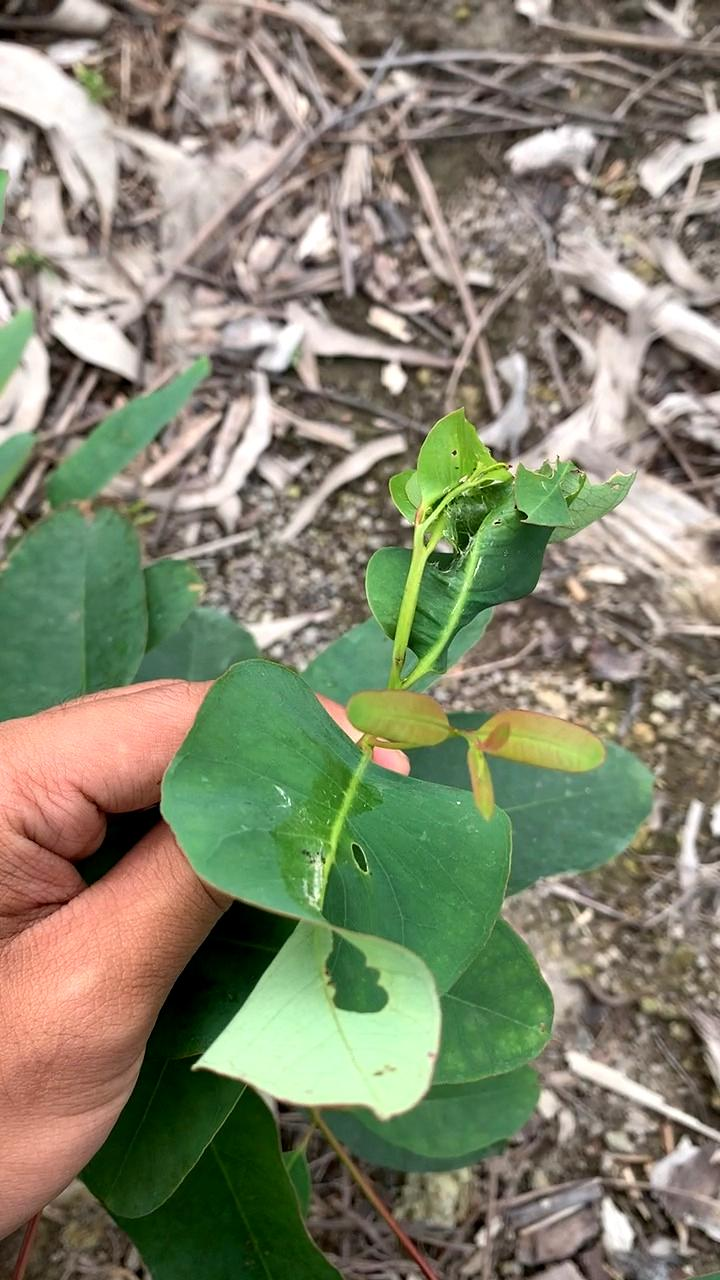Leaf Roller - Leaf: (335, 402, 643, 681)
